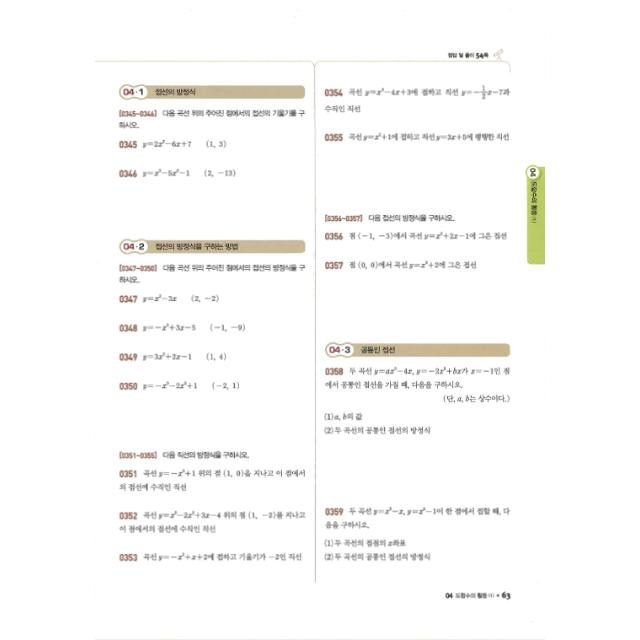many_in_one: (108, 255, 312, 287), (111, 106, 311, 130), (114, 446, 252, 462)
short: (318, 362, 518, 442), (321, 504, 513, 566)
small: (321, 82, 517, 118), (115, 504, 309, 538), (113, 466, 310, 496), (322, 252, 483, 278), (116, 548, 304, 568), (320, 227, 510, 246), (321, 128, 514, 146), (116, 374, 244, 398), (114, 158, 240, 180), (115, 318, 248, 338), (116, 346, 232, 368), (114, 290, 226, 310), (115, 134, 232, 152)
